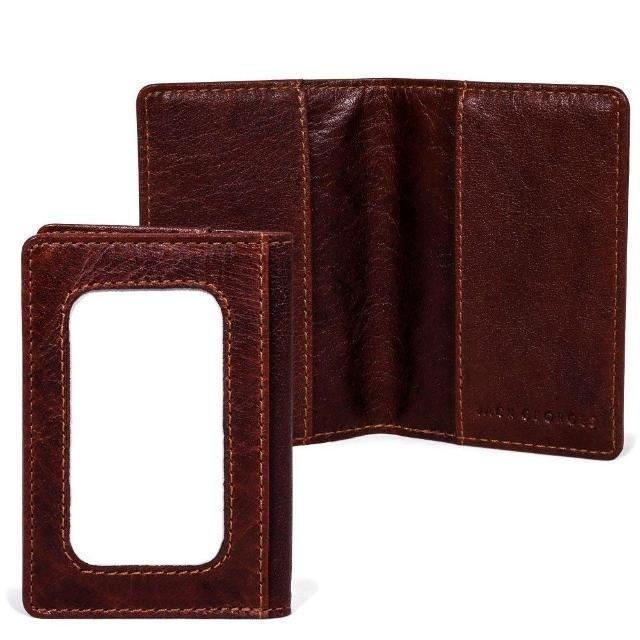Wallet: (132, 70, 628, 462), (20, 219, 298, 617)
